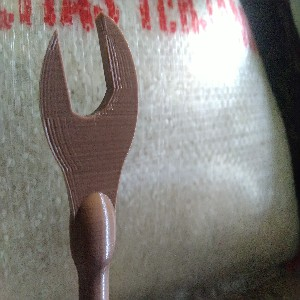spanner: (37, 12, 139, 300)
